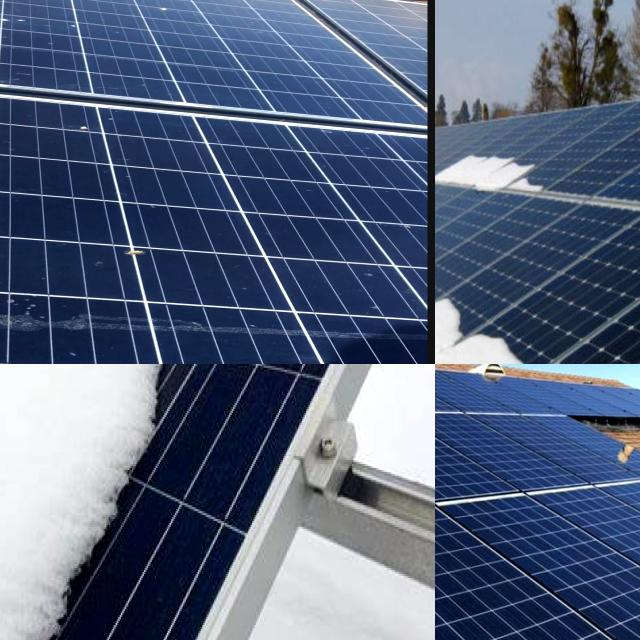crack: (439, 478, 640, 640), (435, 494, 640, 640), (435, 513, 640, 640), (435, 399, 562, 549), (435, 390, 579, 509), (435, 389, 550, 524), (484, 402, 638, 496), (435, 387, 537, 528), (435, 364, 530, 441), (435, 364, 518, 428), (435, 364, 514, 430)
panel: (80, 419, 156, 572), (452, 146, 554, 228), (7, 554, 86, 640), (435, 213, 488, 330), (47, 364, 142, 406), (149, 364, 191, 453), (461, 324, 529, 364), (435, 194, 465, 282), (435, 281, 471, 346), (435, 162, 469, 208), (435, 141, 464, 186), (0, 364, 42, 394), (435, 249, 457, 305), (435, 140, 463, 183), (435, 157, 459, 207), (0, 364, 44, 388), (0, 364, 24, 391)
